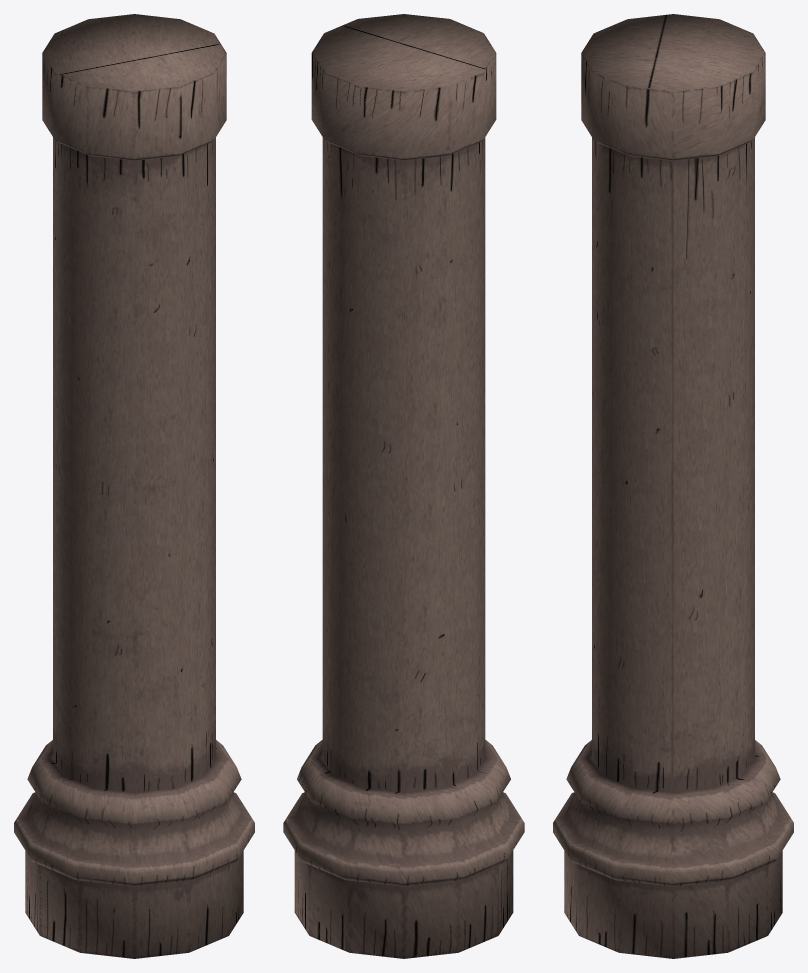
File: Msh_PilierSpectacle.fbx
3 renders of one model, left to right at view 1: azimuth 30°, elevation 25°; view 2: azimuth 150°, elevation 25°; view 3: azimuth 270°, elevation 25°, orthographic.
Parts seen in each view (by area): view 1: pillier2; view 2: pillier2; view 3: pillier2.
Part boxes in pixels (x1=…): pillier2: x1=14, y1=14, x2=254, y2=958; pillier2: x1=283, y1=14, x2=524, y2=958; pillier2: x1=553, y1=14, x2=793, y2=958.
Bounding box in the file's own units: 8.61 × 8.61 × 33.94.
